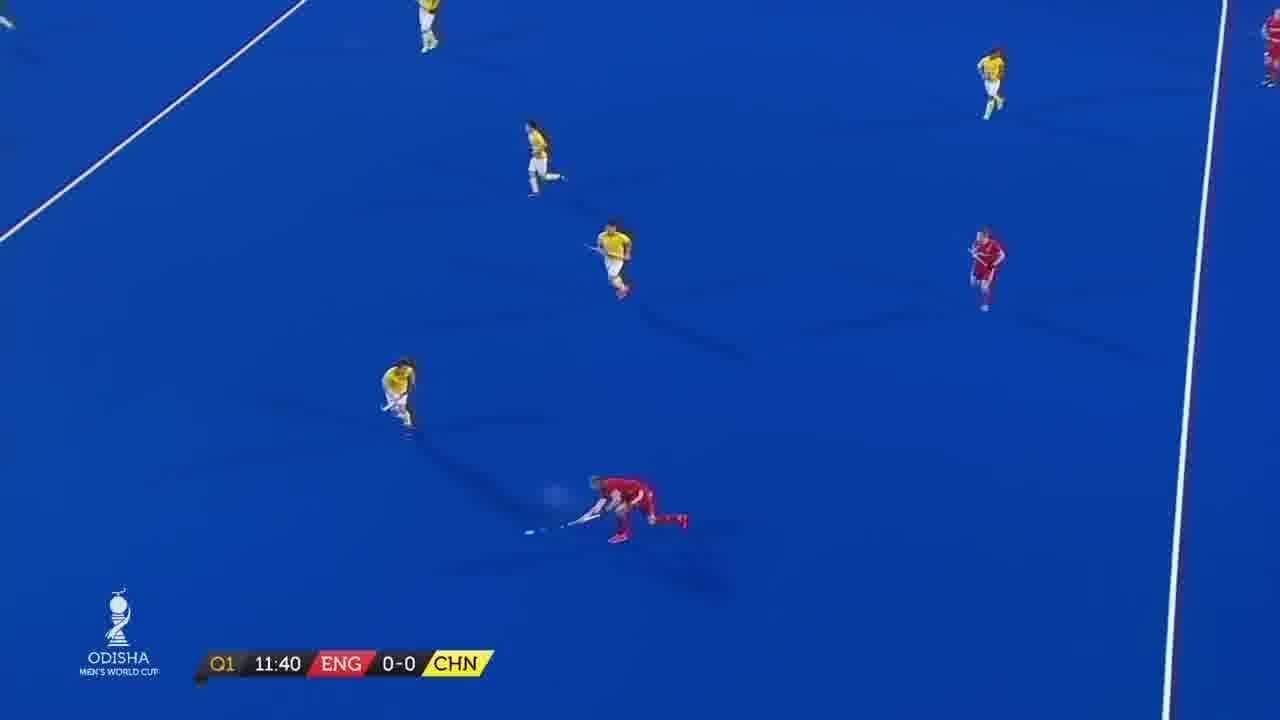ball: (523, 527, 541, 546)
